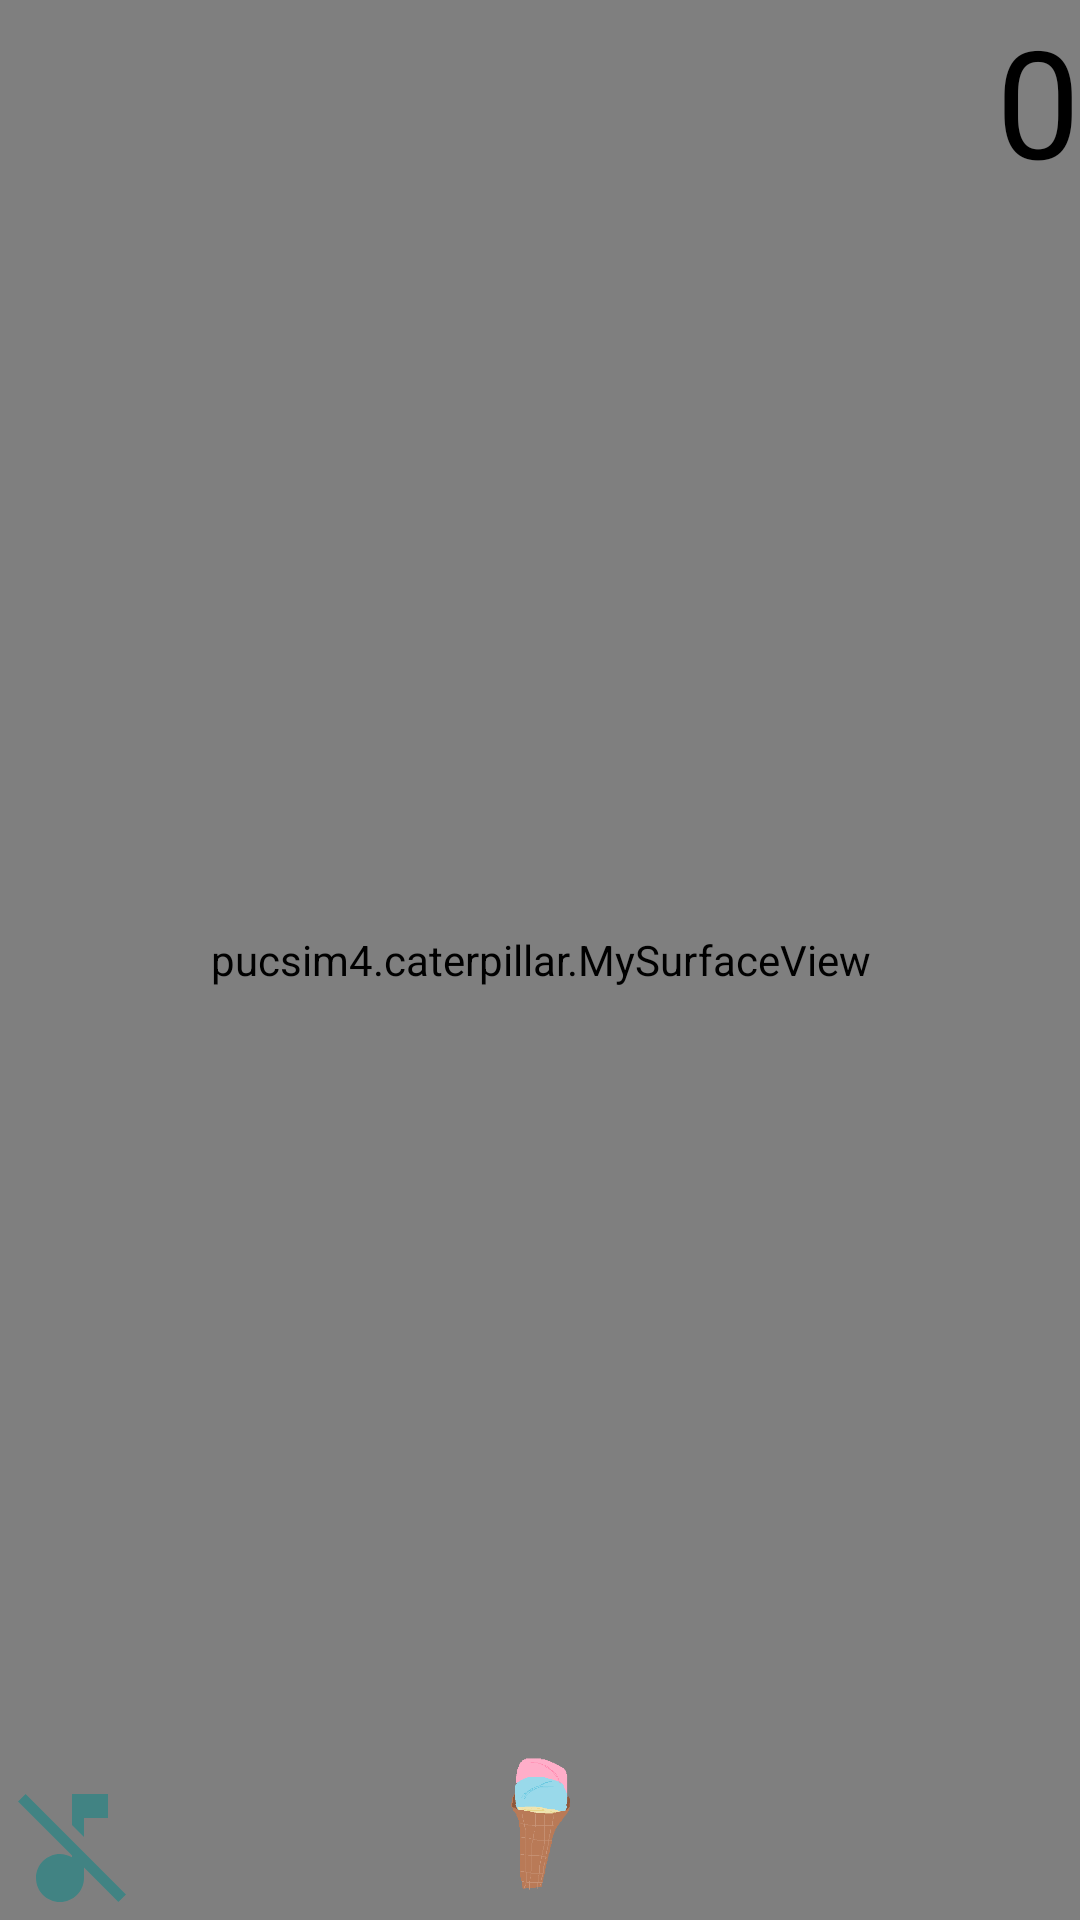

Icons on this 1080px x 1920px Android screen, each with its box as bbox=(x1, y1, x2, y2):
icecream: bbox=(511, 1758, 570, 1890)
music off: bbox=(18, 1794, 126, 1902)
